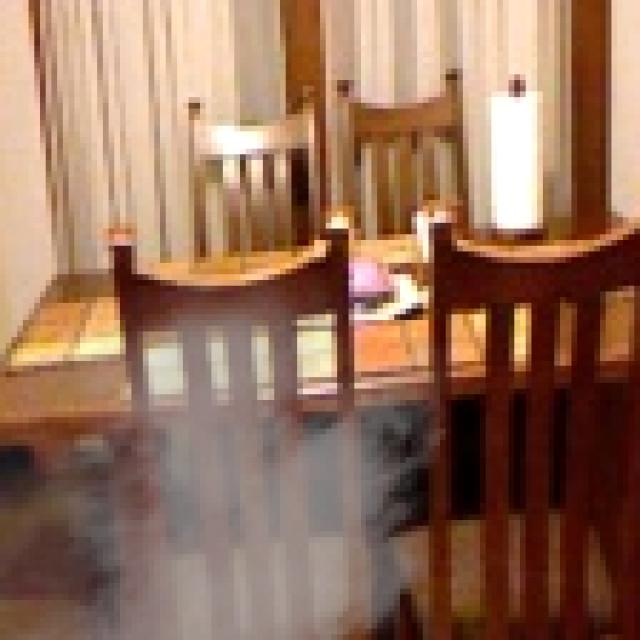smoke: (0, 228, 474, 640)
